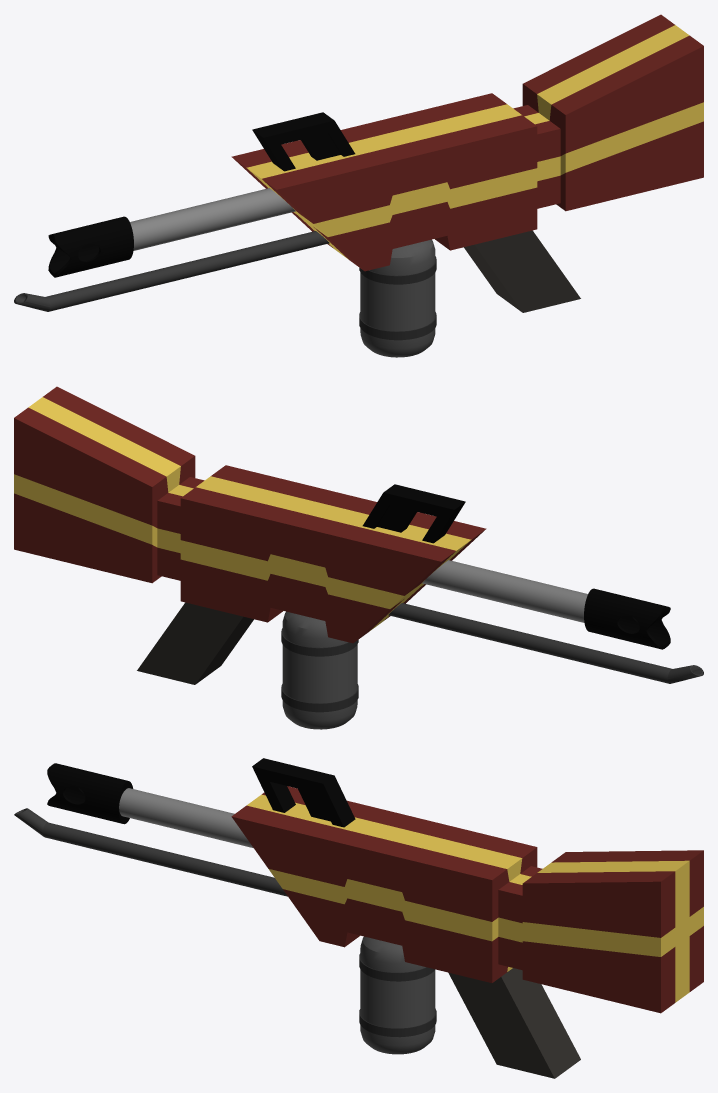
The model's file is FireGun.fbx.
The picture shows the model from 3 angles, top to bottom: view 1: azimuth 30°, elevation 25°; view 2: azimuth 150°, elevation 25°; view 3: azimuth 330°, elevation 25°; orthographic projection.
Visible parts, largest first — view 1: Cube.006, Cylinder.005, Cube.009, Cylinder.004, Cylinder.002, Cylinder.003, Cube.008, Cylinder.006; view 2: Cube.006, Cylinder.005, Cube.009, Cylinder.004, Cylinder.002, Cylinder.003, Cube.008, Cylinder.006; view 3: Cube.006, Cube.009, Cylinder.005, Cylinder.004, Cube.008, Cylinder.002, Cylinder.003, Cylinder.006.
Part boxes in pixels (x1=…): Cube.006: x1=231, y1=14, x2=703, y2=271; Cylinder.005: x1=360, y1=239, x2=435, y2=357; Cube.009: x1=464, y1=230, x2=580, y2=312; Cylinder.004: x1=14, y1=231, x2=329, y2=311; Cylinder.002: x1=130, y1=188, x2=295, y2=250; Cylinder.003: x1=48, y1=216, x2=133, y2=277; Cube.008: x1=252, y1=112, x2=355, y2=171; Cylinder.006: x1=359, y1=256, x2=436, y2=340; Cube.006: x1=14, y1=386, x2=486, y2=643; Cylinder.005: x1=282, y1=611, x2=357, y2=729; Cube.009: x1=137, y1=602, x2=253, y2=684; Cylinder.004: x1=388, y1=603, x2=703, y2=683; Cylinder.002: x1=422, y1=560, x2=587, y2=622; Cylinder.003: x1=584, y1=588, x2=670, y2=649; Cube.008: x1=362, y1=484, x2=465, y2=543; Cylinder.006: x1=281, y1=628, x2=358, y2=712; Cube.006: x1=231, y1=786, x2=703, y2=1013; Cube.009: x1=448, y1=968, x2=580, y2=1078; Cylinder.005: x1=360, y1=936, x2=435, y2=1054; Cylinder.004: x1=14, y1=808, x2=287, y2=896; Cube.008: x1=252, y1=758, x2=355, y2=827; Cylinder.002: x1=119, y1=788, x2=253, y2=847; Cylinder.003: x1=47, y1=763, x2=133, y2=824; Cylinder.006: x1=359, y1=953, x2=436, y2=1037.
Bounding box in the file's own units: 965 × 342 × 113.
